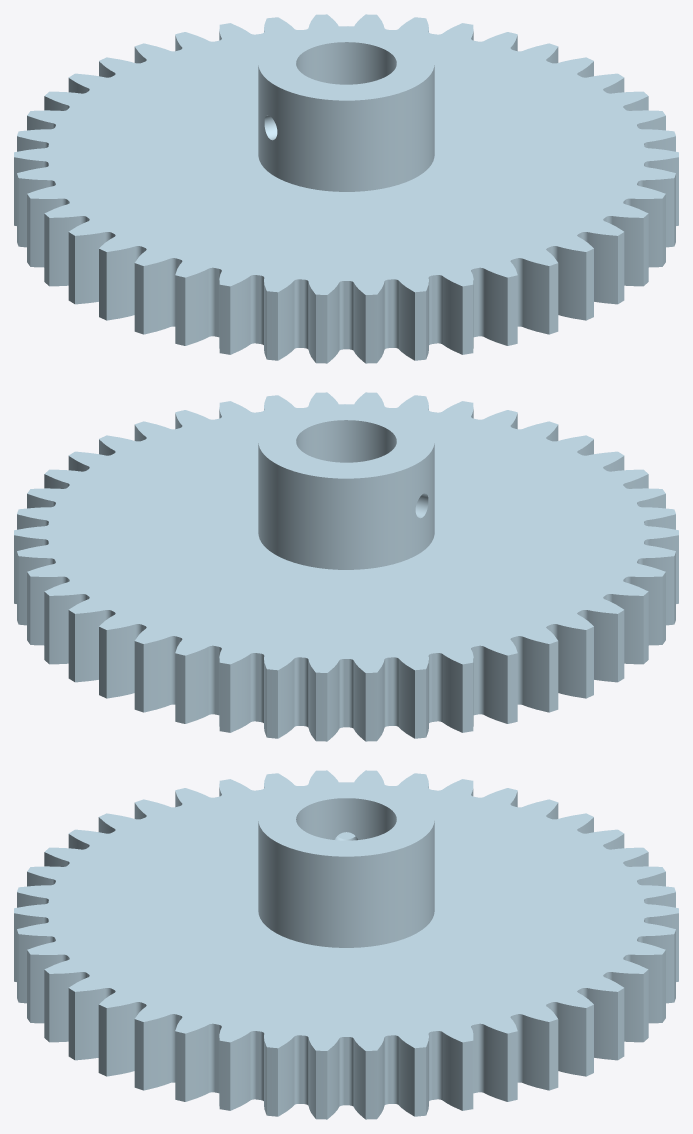
Rendered from SquareGearXLarge.gltf.
3 renders of one model, top to bottom at view 1: azimuth 30°, elevation 25°; view 2: azimuth 150°, elevation 25°; view 3: azimuth 270°, elevation 25°, orthographic.
Visible parts, largest first — view 1: Spur gear (42 teeth); view 2: Spur gear (42 teeth); view 3: Spur gear (42 teeth).
Part boxes in pixels (<box>): Spur gear (42 teeth): <box>14,14,678,363</box>; Spur gear (42 teeth): <box>14,392,678,741</box>; Spur gear (42 teeth): <box>14,770,678,1119</box>.
Size of the model in its own units: 0.1318 by 0.035 by 0.132.
